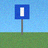sign: (15, 4, 29, 35)
